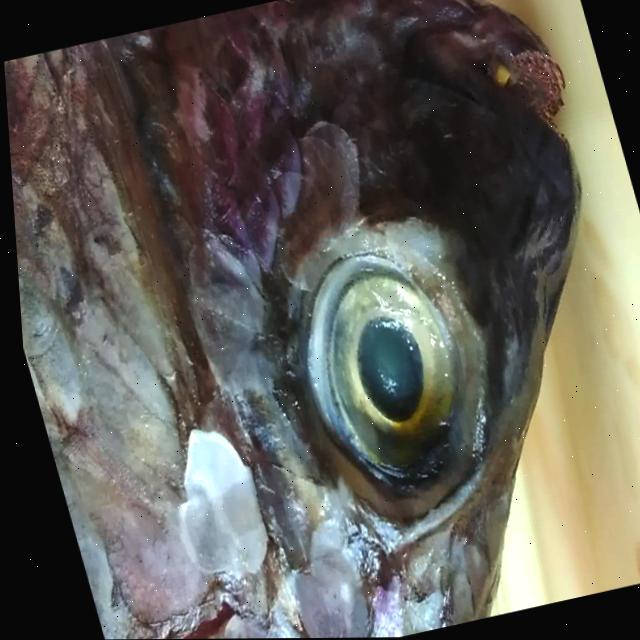Non-Fresh: (1, 19, 351, 640), (254, 214, 523, 533)
